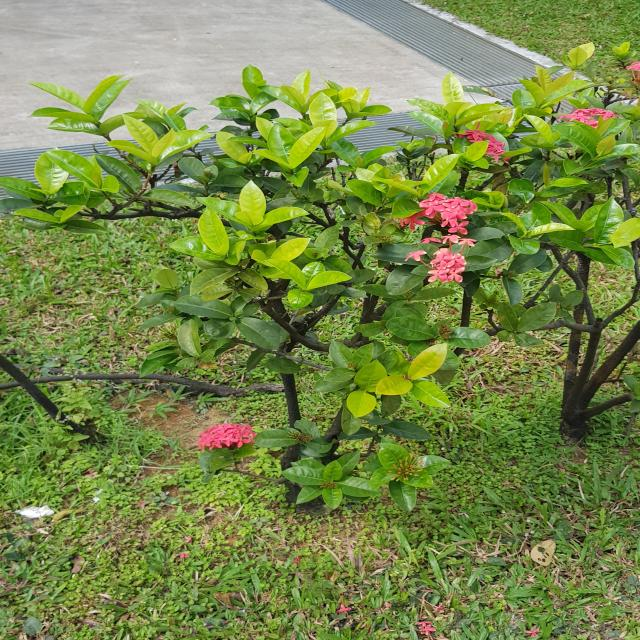Chinese-Ixora: (404, 233, 478, 284), (393, 192, 478, 234), (448, 120, 512, 163), (194, 422, 259, 452), (555, 107, 619, 130), (384, 452, 427, 482), (625, 60, 640, 82)
